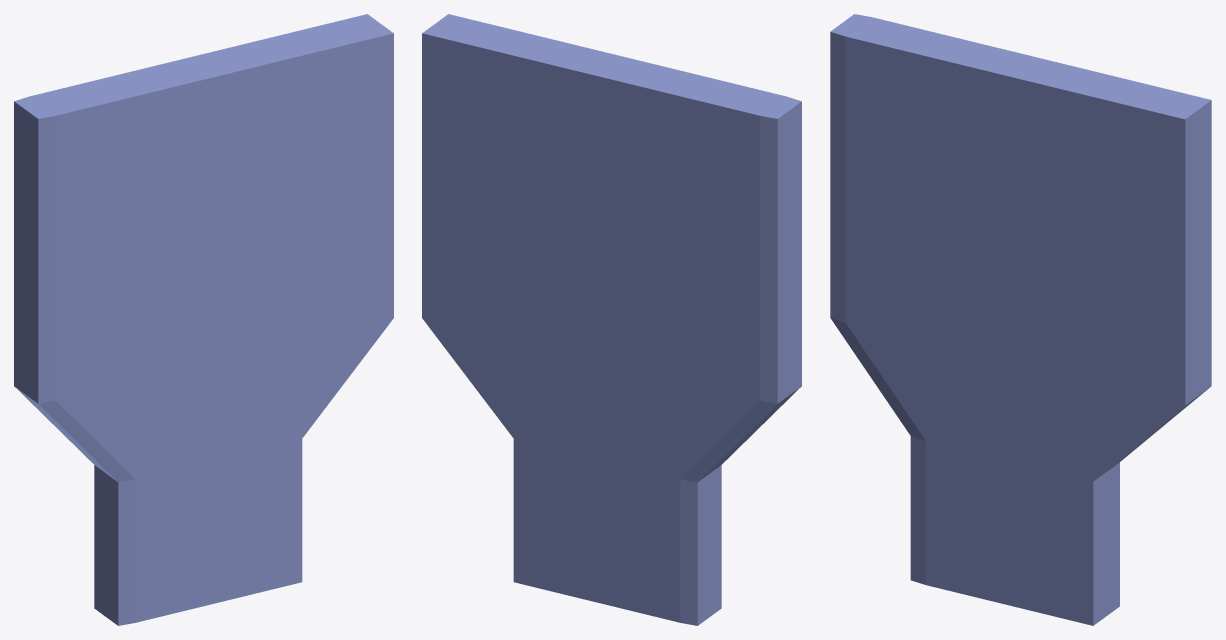
File: rightDoor.fbx
The picture shows the model from 3 angles, left to right: view 1: azimuth 30°, elevation 25°; view 2: azimuth 150°, elevation 25°; view 3: azimuth 330°, elevation 25°; orthographic projection.
Visible parts, largest first — view 1: rightDoor; view 2: rightDoor; view 3: rightDoor.
Boxes of the visible parts, bbox=[...] form: rightDoor: bbox=[14, 14, 393, 625]; rightDoor: bbox=[422, 14, 801, 625]; rightDoor: bbox=[830, 14, 1211, 625].
Size of the model in its own units: 310 by 440 by 40.
